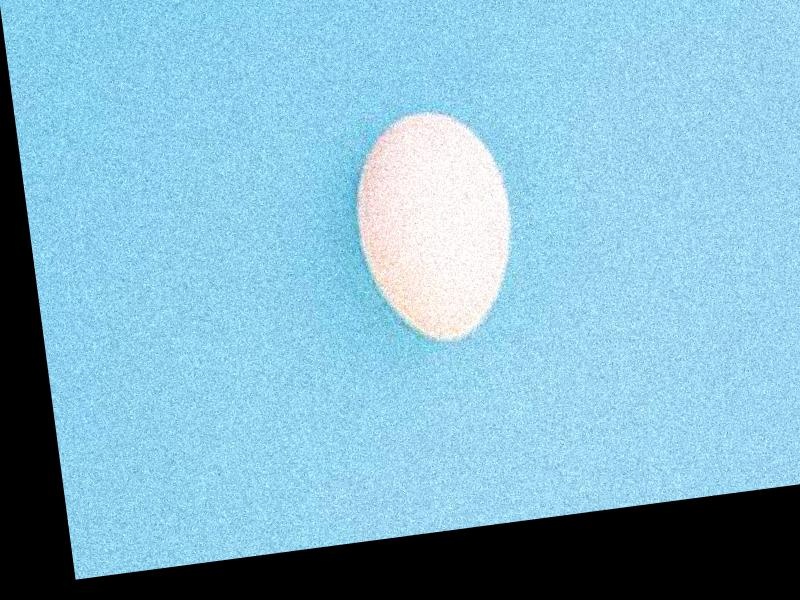Eggs: (343, 103, 523, 354)
